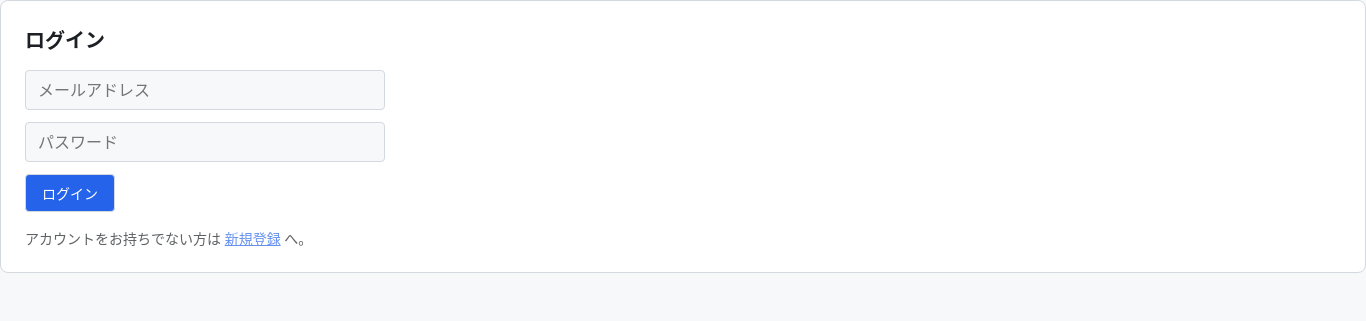
Scenario: AuthForm › login shows the server message inline on 401
Type "qa@example.com" into the field with test id "auth-email" at (205, 90), box [25,70,385,110]
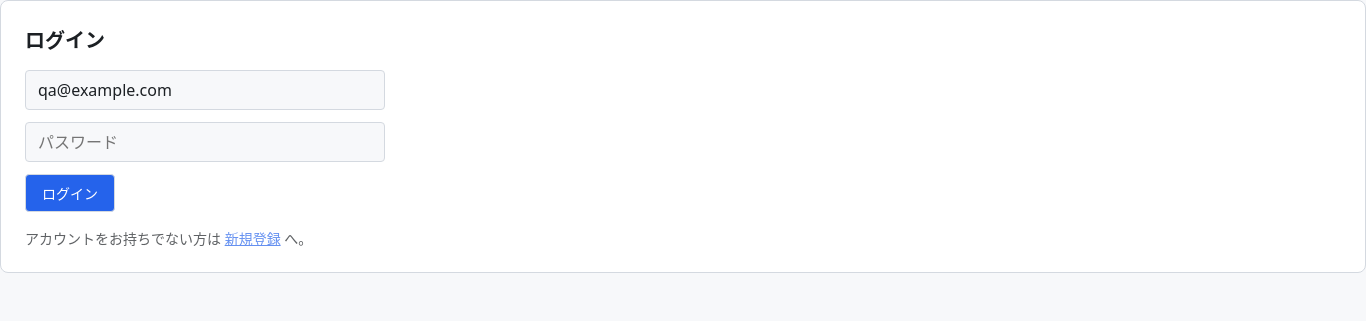
Type "wrong" into the password field with test id "auth-password" at (205, 142), box [25,122,385,162]
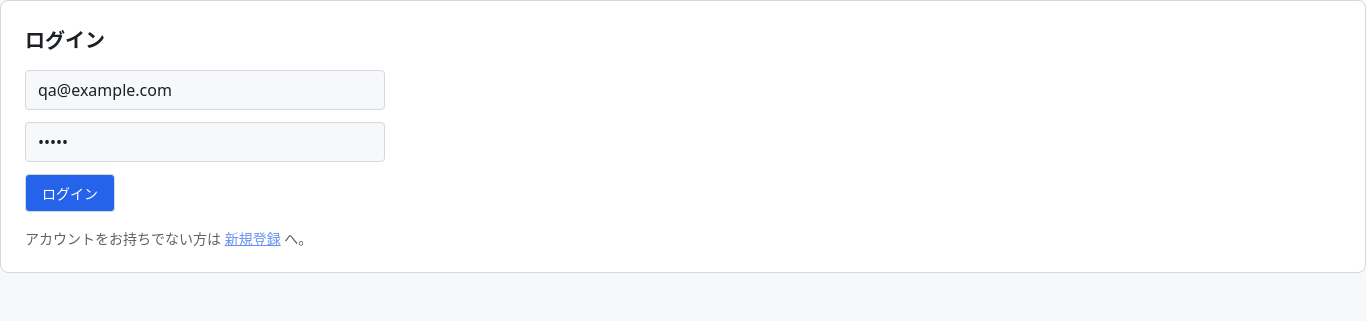
Click the button with test id "auth-submit" at (70, 193), box [25,174,115,212]
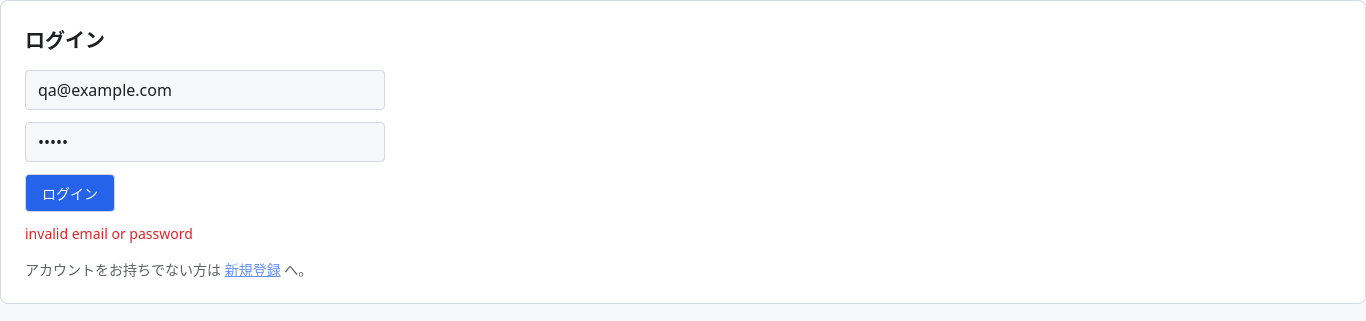
Expected: the message with test id "auth-error" reads "invalid email or password", [25,224,193,243]
